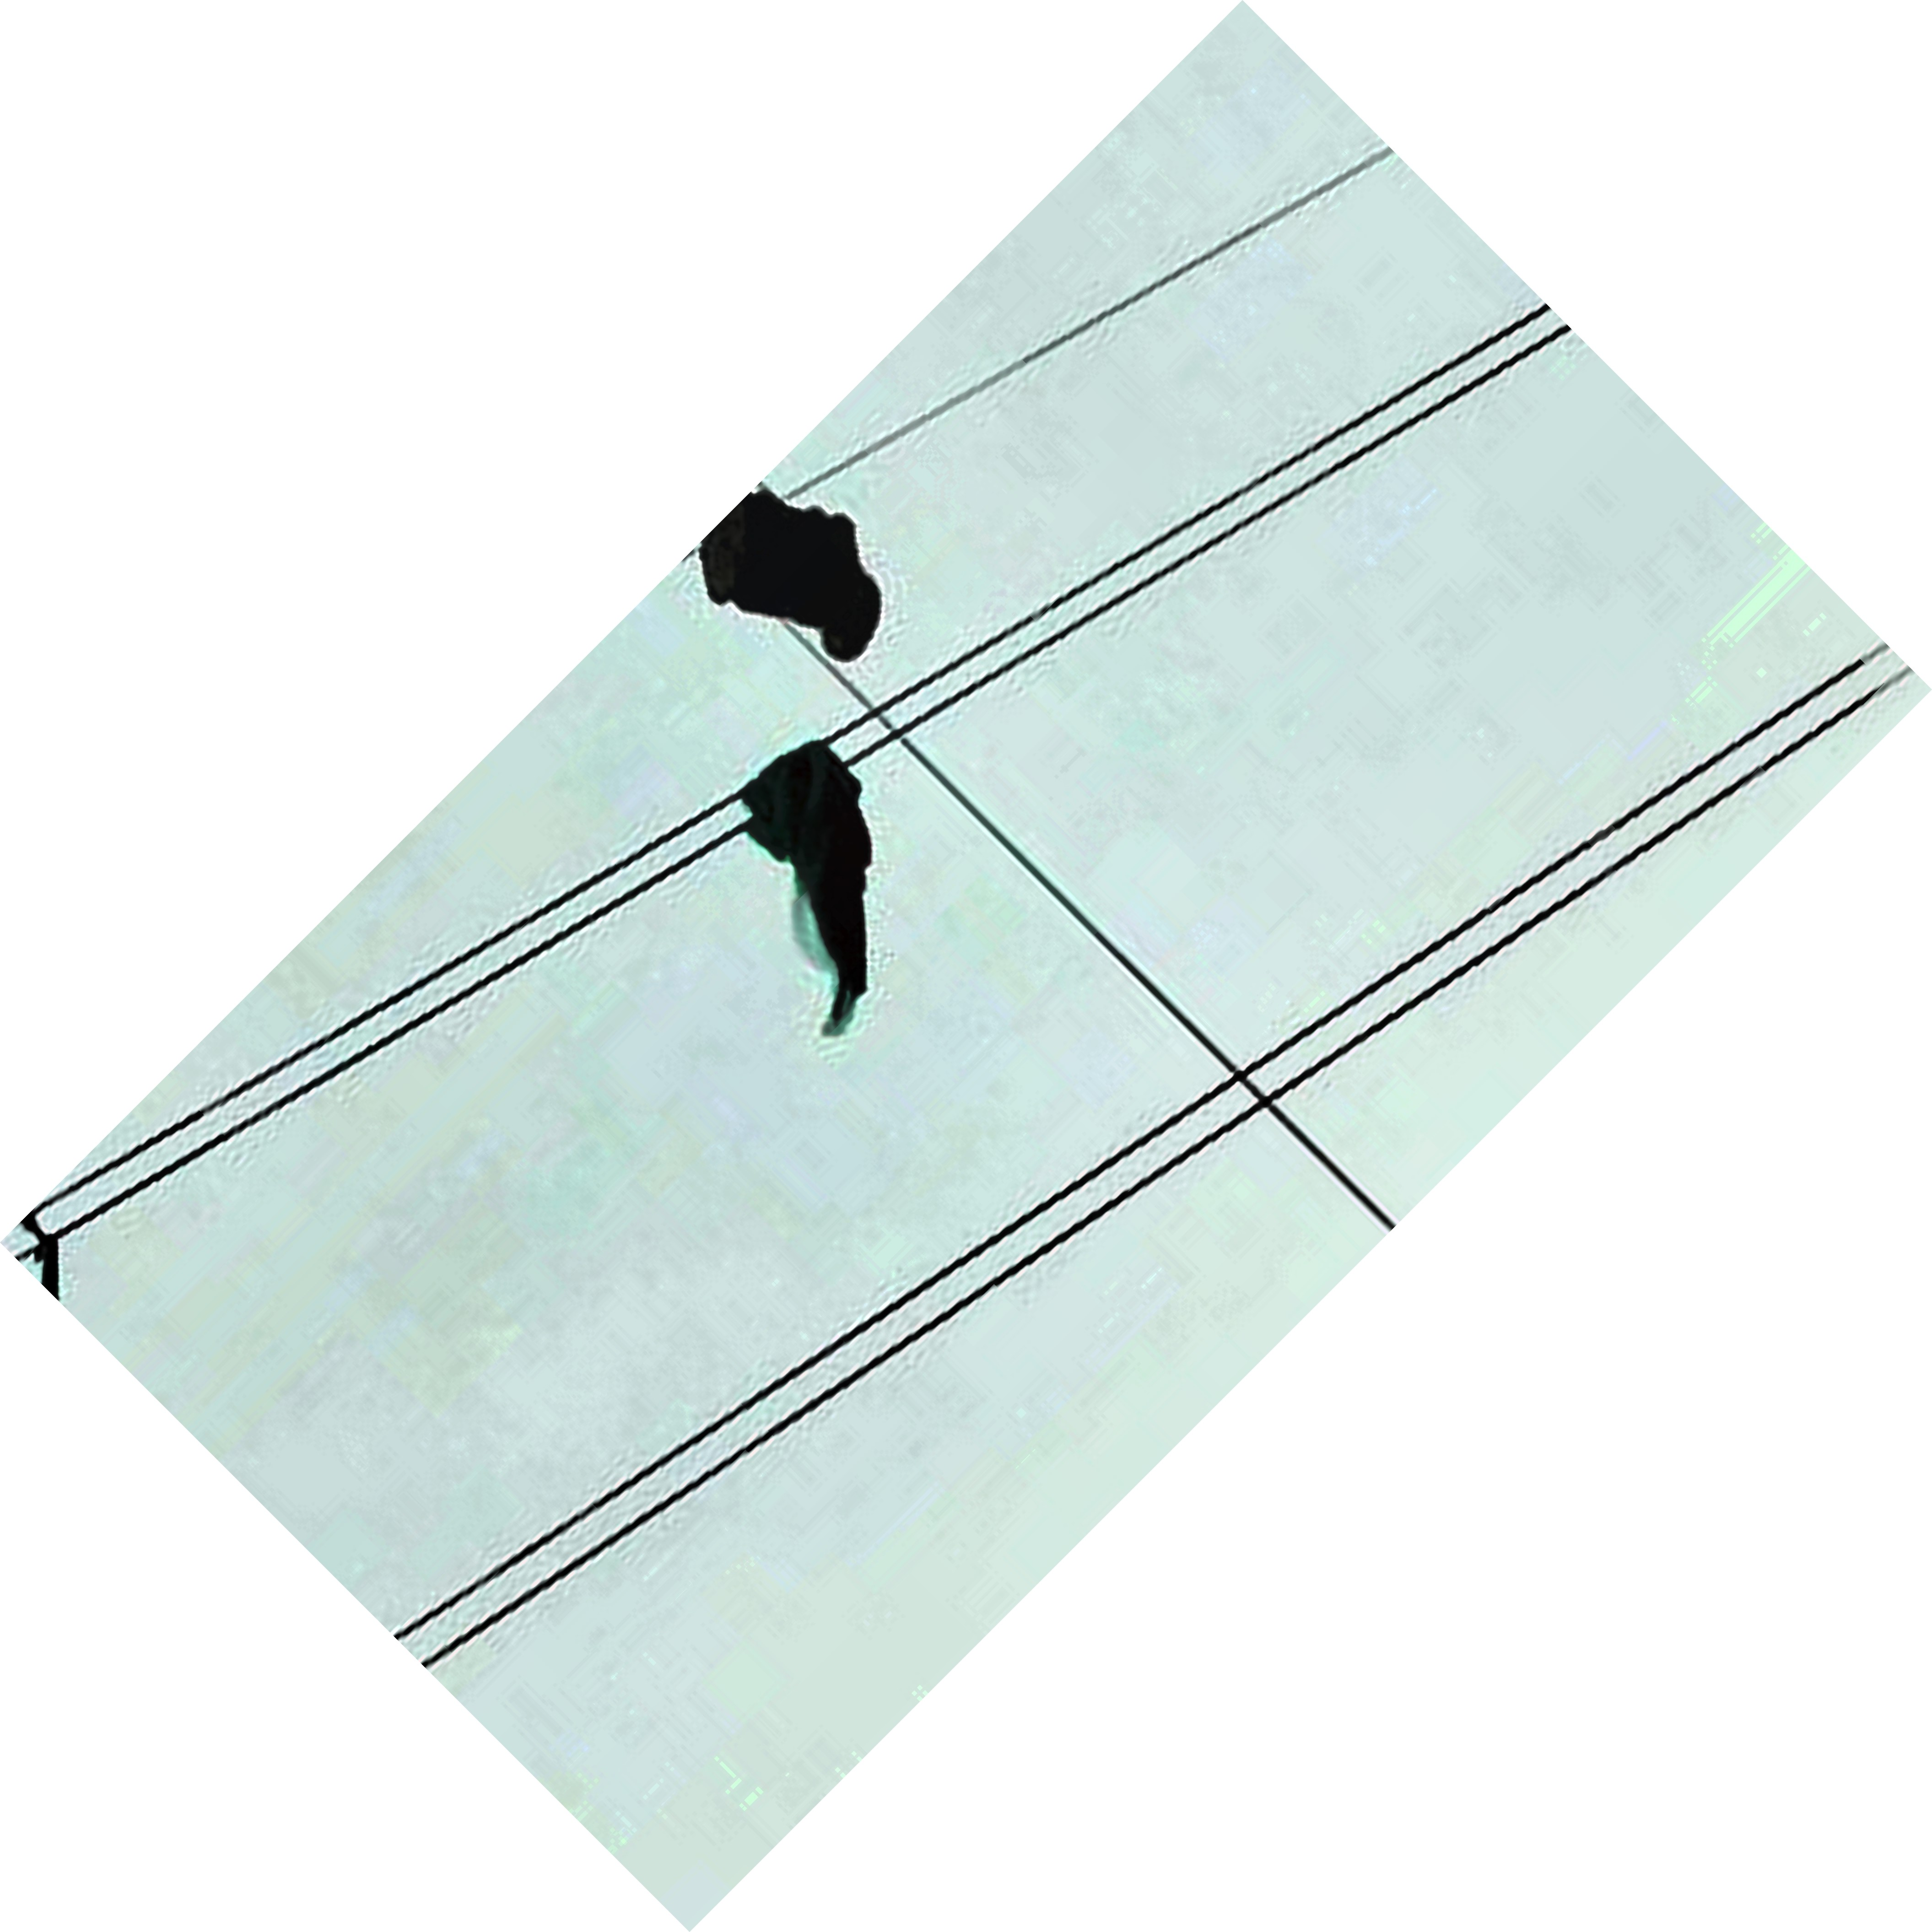wire foreign body: (727, 725, 954, 1062)
